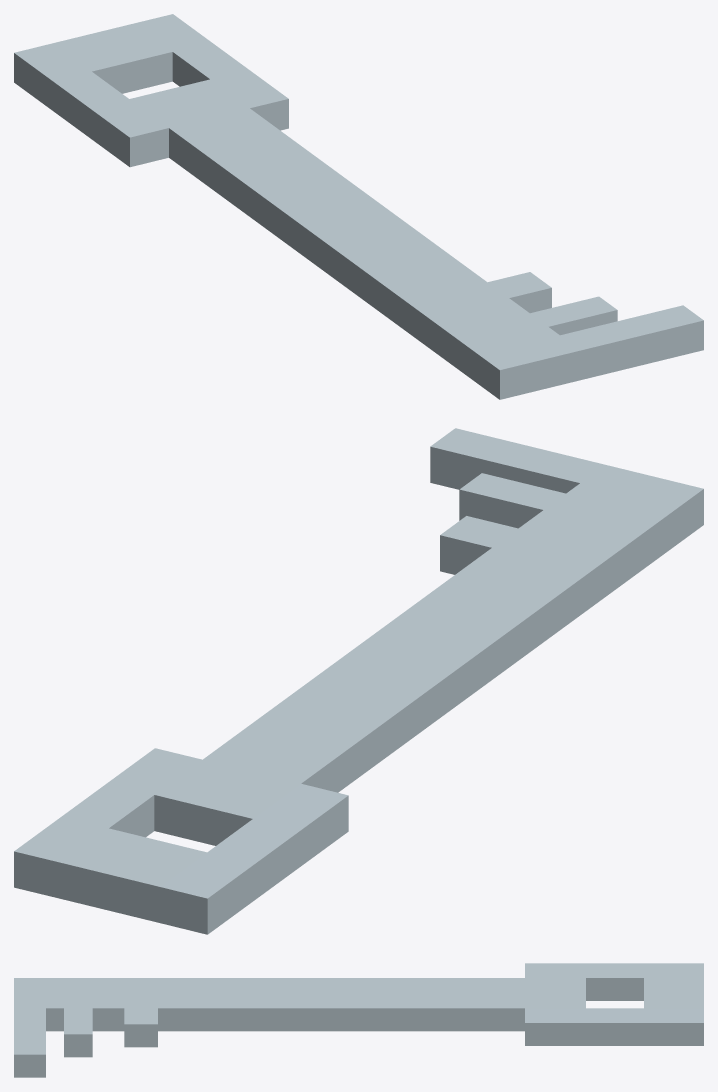
File: Key_Silver.glb
3 renders of one model, top to bottom at view 1: azimuth 30°, elevation 25°; view 2: azimuth 150°, elevation 25°; view 3: azimuth 270°, elevation 25°, orthographic. The views are drawn at different scales.
Parts seen in each view (by area): view 1: Key_silver; view 2: Key_silver; view 3: Key_silver.
Part boxes in pixels (bbox=[...]): Key_silver: bbox=[14, 14, 703, 399]; Key_silver: bbox=[14, 428, 703, 934]; Key_silver: bbox=[14, 963, 703, 1077].
Bounding box in the file's own units: 0.0648 × 0.00758 × 0.2061.
